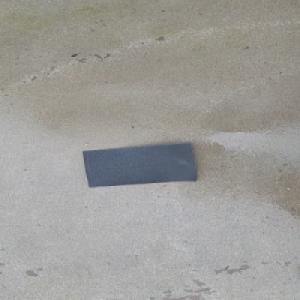PaintChip: (81, 141, 198, 187)
